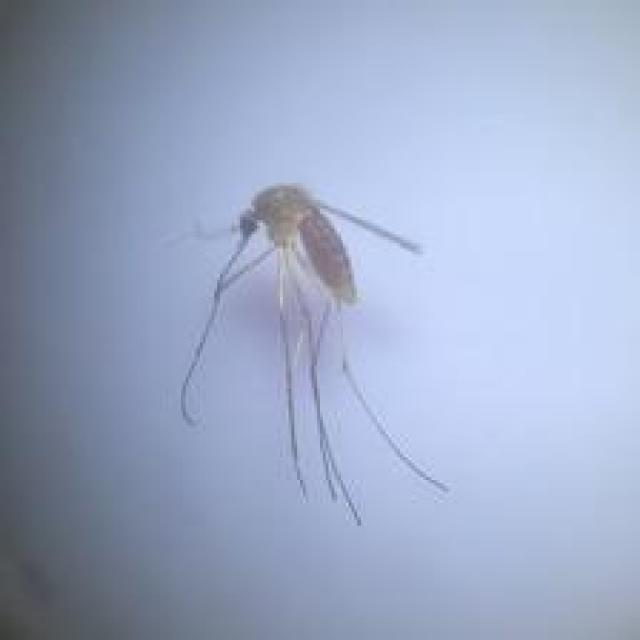Culex: (168, 180, 452, 526)
